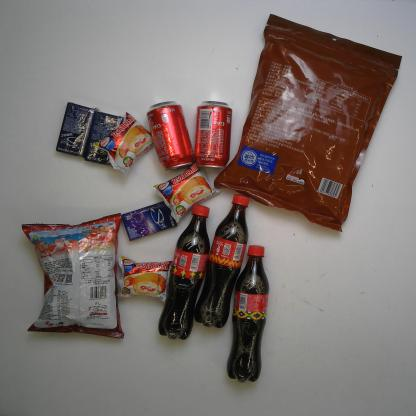Dessert: (152, 160, 221, 224), (91, 112, 154, 176), (117, 253, 174, 305)
Dried Food: (214, 13, 404, 235)
Drink: (193, 193, 250, 329), (157, 204, 211, 341), (226, 244, 270, 383), (146, 100, 196, 171), (194, 100, 233, 168)
Gum: (121, 200, 178, 242), (83, 110, 123, 167), (56, 101, 95, 157)
Puffed Food: (20, 212, 124, 339)
